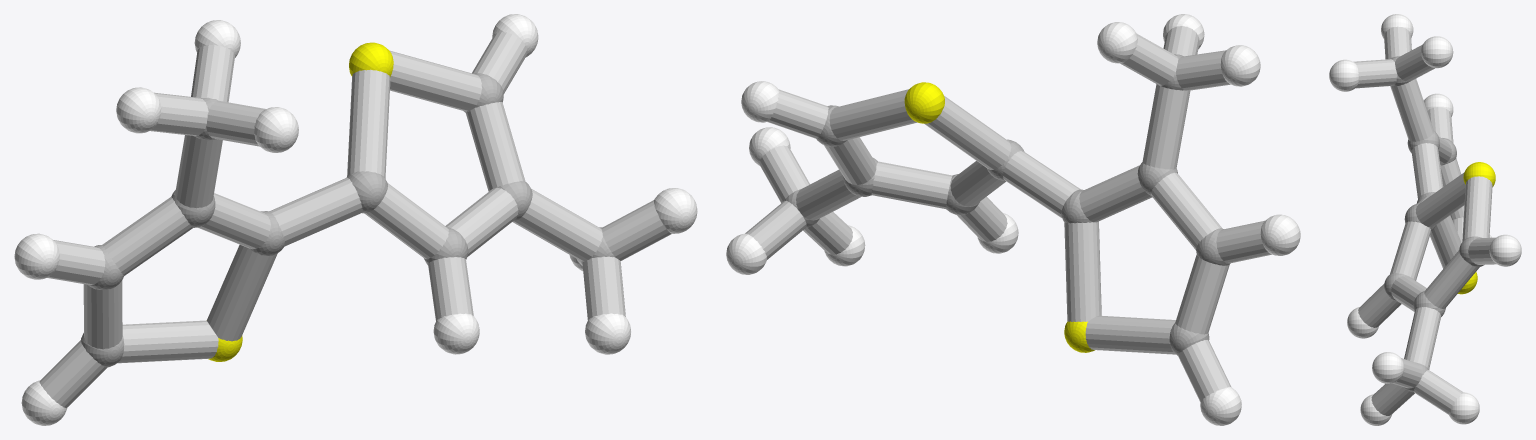
Rendered from Methylthiophene_Phi_30_Theta_310_Methylthiophene.glb.
3 views of the same model, side by side, from view 1: azimuth 30°, elevation 25°; view 2: azimuth 150°, elevation 25°; view 3: azimuth 270°, elevation 25° (orthographic). The views are drawn at different scales.
Parts seen in each view (by area): view 1: grp7965, grp3621, grp1, grp7241; view 2: grp7965, grp3621, grp1, grp7241; view 3: grp7965, grp3621, grp1, grp7241.
Part boxes in pixels (box(x1,y1,x2,y2)): grp7965: box(39, 32, 671, 407); grp3621: box(14, 14, 697, 425); grp1: box(80, 73, 614, 367); grp7241: box(208, 42, 393, 361); grp7965: box(745, 26, 1271, 402); grp3621: box(726, 14, 1300, 425); grp1: box(785, 54, 1230, 355); grp7241: box(904, 82, 1094, 352); grp7965: box(1353, 26, 1496, 415); grp3621: box(1329, 14, 1521, 425); grp1: box(1384, 56, 1483, 392); grp7241: box(1458, 162, 1495, 294).
Bounding box in the file's own units: 9.61 × 5.55 × 3.57.
